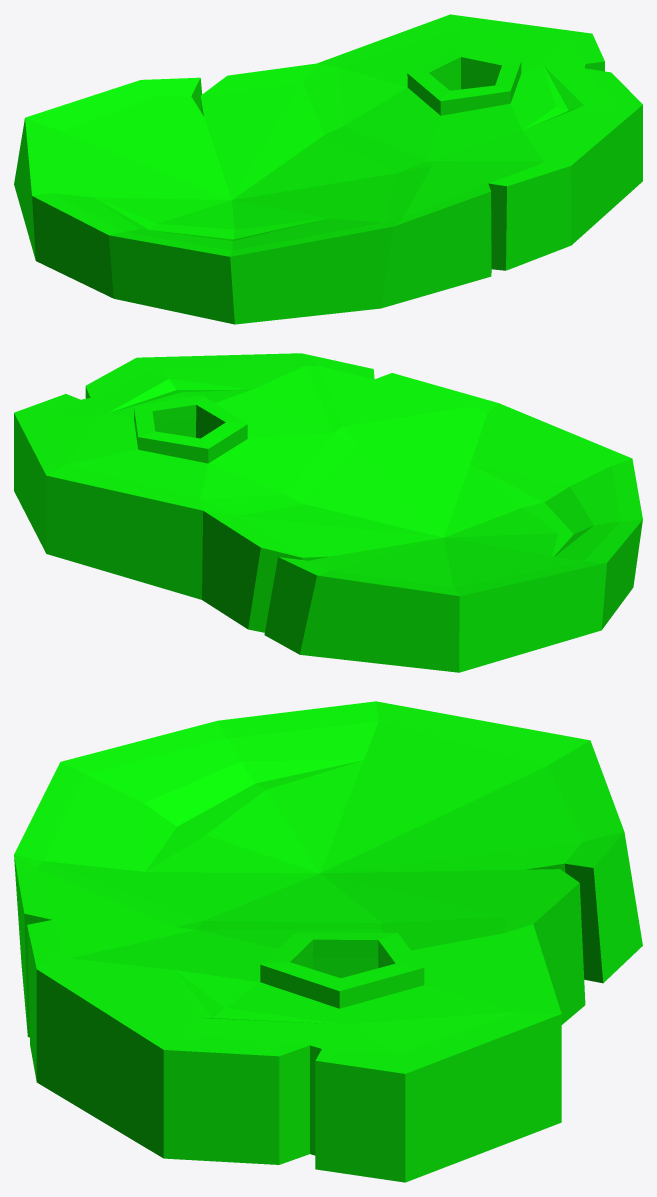
The model's file is SM_Beef_Steak.fbx.
3 renders of one model, top to bottom at view 1: azimuth 30°, elevation 25°; view 2: azimuth 150°, elevation 25°; view 3: azimuth 270°, elevation 25°, orthographic. The views are drawn at different scales.
Parts seen in each view (by area): view 1: beef-steak; view 2: beef-steak; view 3: beef-steak.
Boxes of the visible parts, left/top/right/bottom form: beef-steak: left=14, top=14, right=642, bottom=324; beef-steak: left=14, top=353, right=642, bottom=672; beef-steak: left=14, top=701, right=642, bottom=1182.
Size of the model in its own units: 0.375 by 0.0867 by 0.2527.
